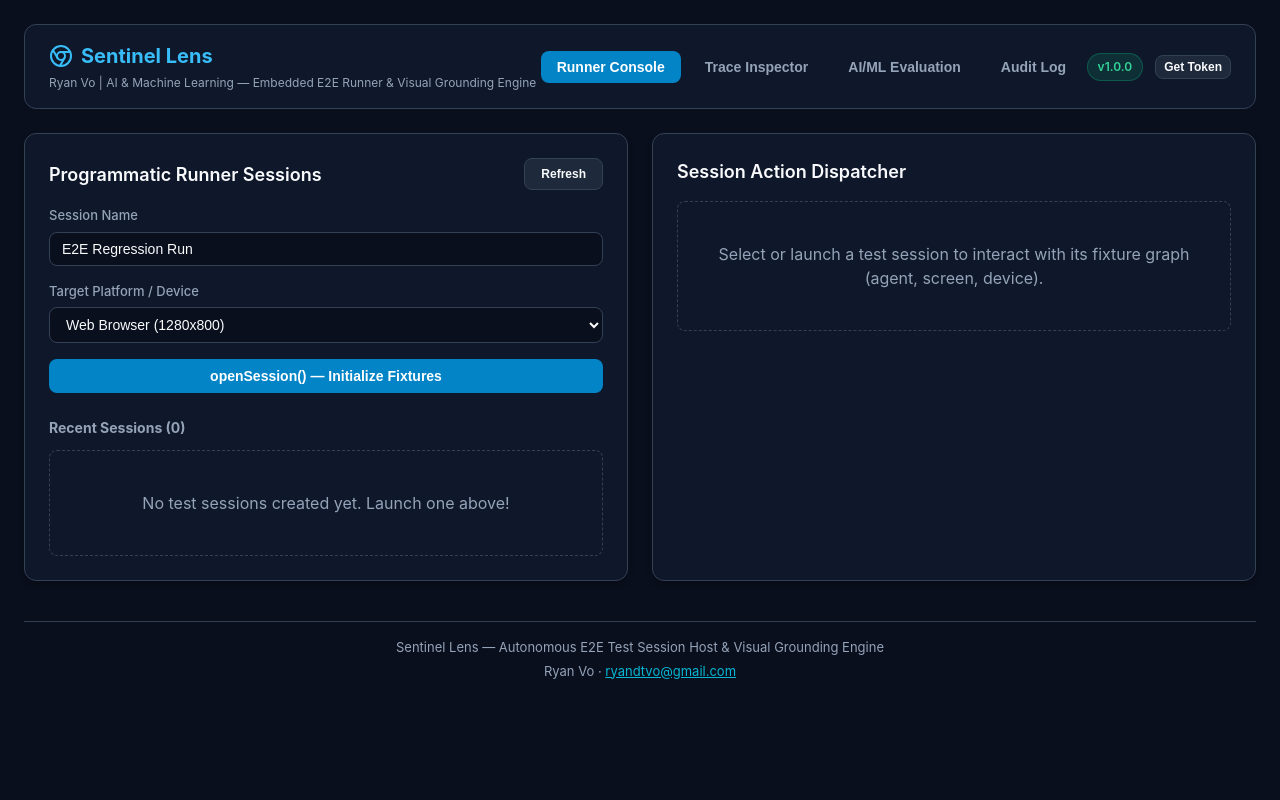
Test case: Sentinel Lens App Component › switches navigation tabs on click to AI/ML evaluation suite
Click the button "AI/ML Evaluation" at (905, 66), box [832,50,977,82]
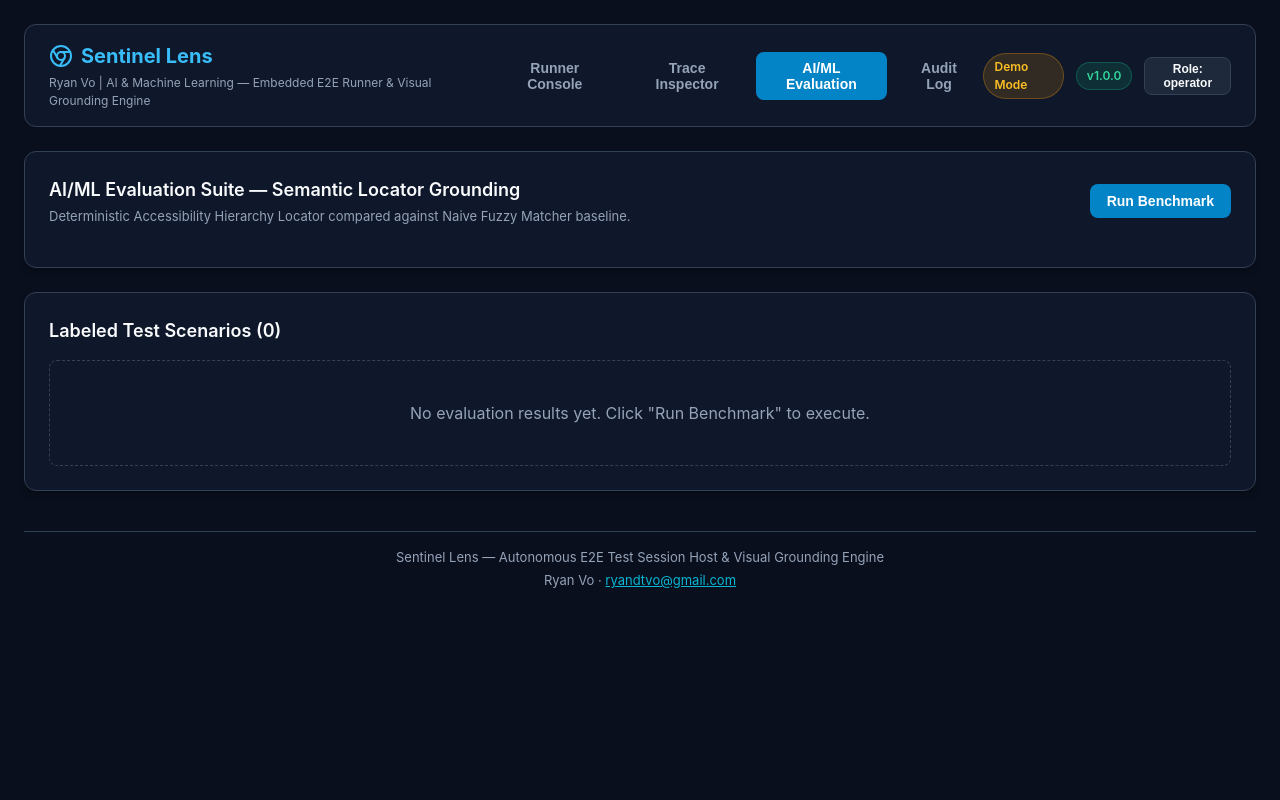
expect the heading "AI/ML Evaluation Suite — Semantic Locator Grounding" is shown: met, box [49,179,520,200]
expect the button "Run Benchmark" is shown: met, box [1090,184,1231,218]
